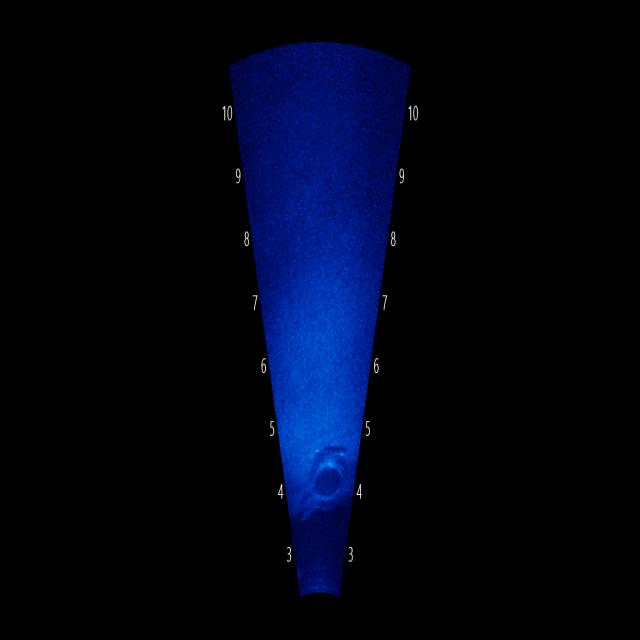circle: (301, 429, 351, 512)
